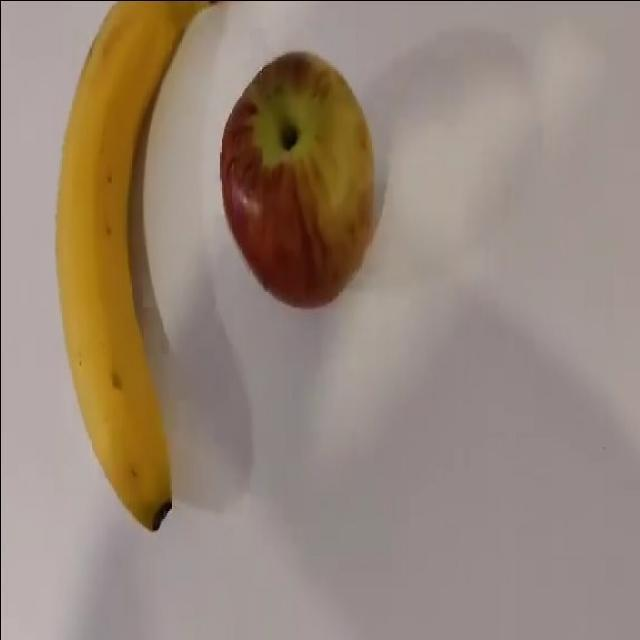Apple: (219, 50, 376, 309)
Banana: (54, 0, 214, 532)
